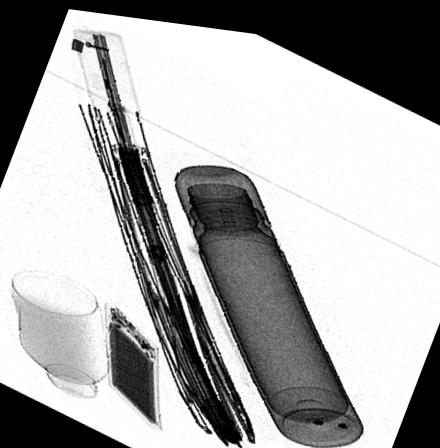Powerbank: (104, 298, 161, 425)
